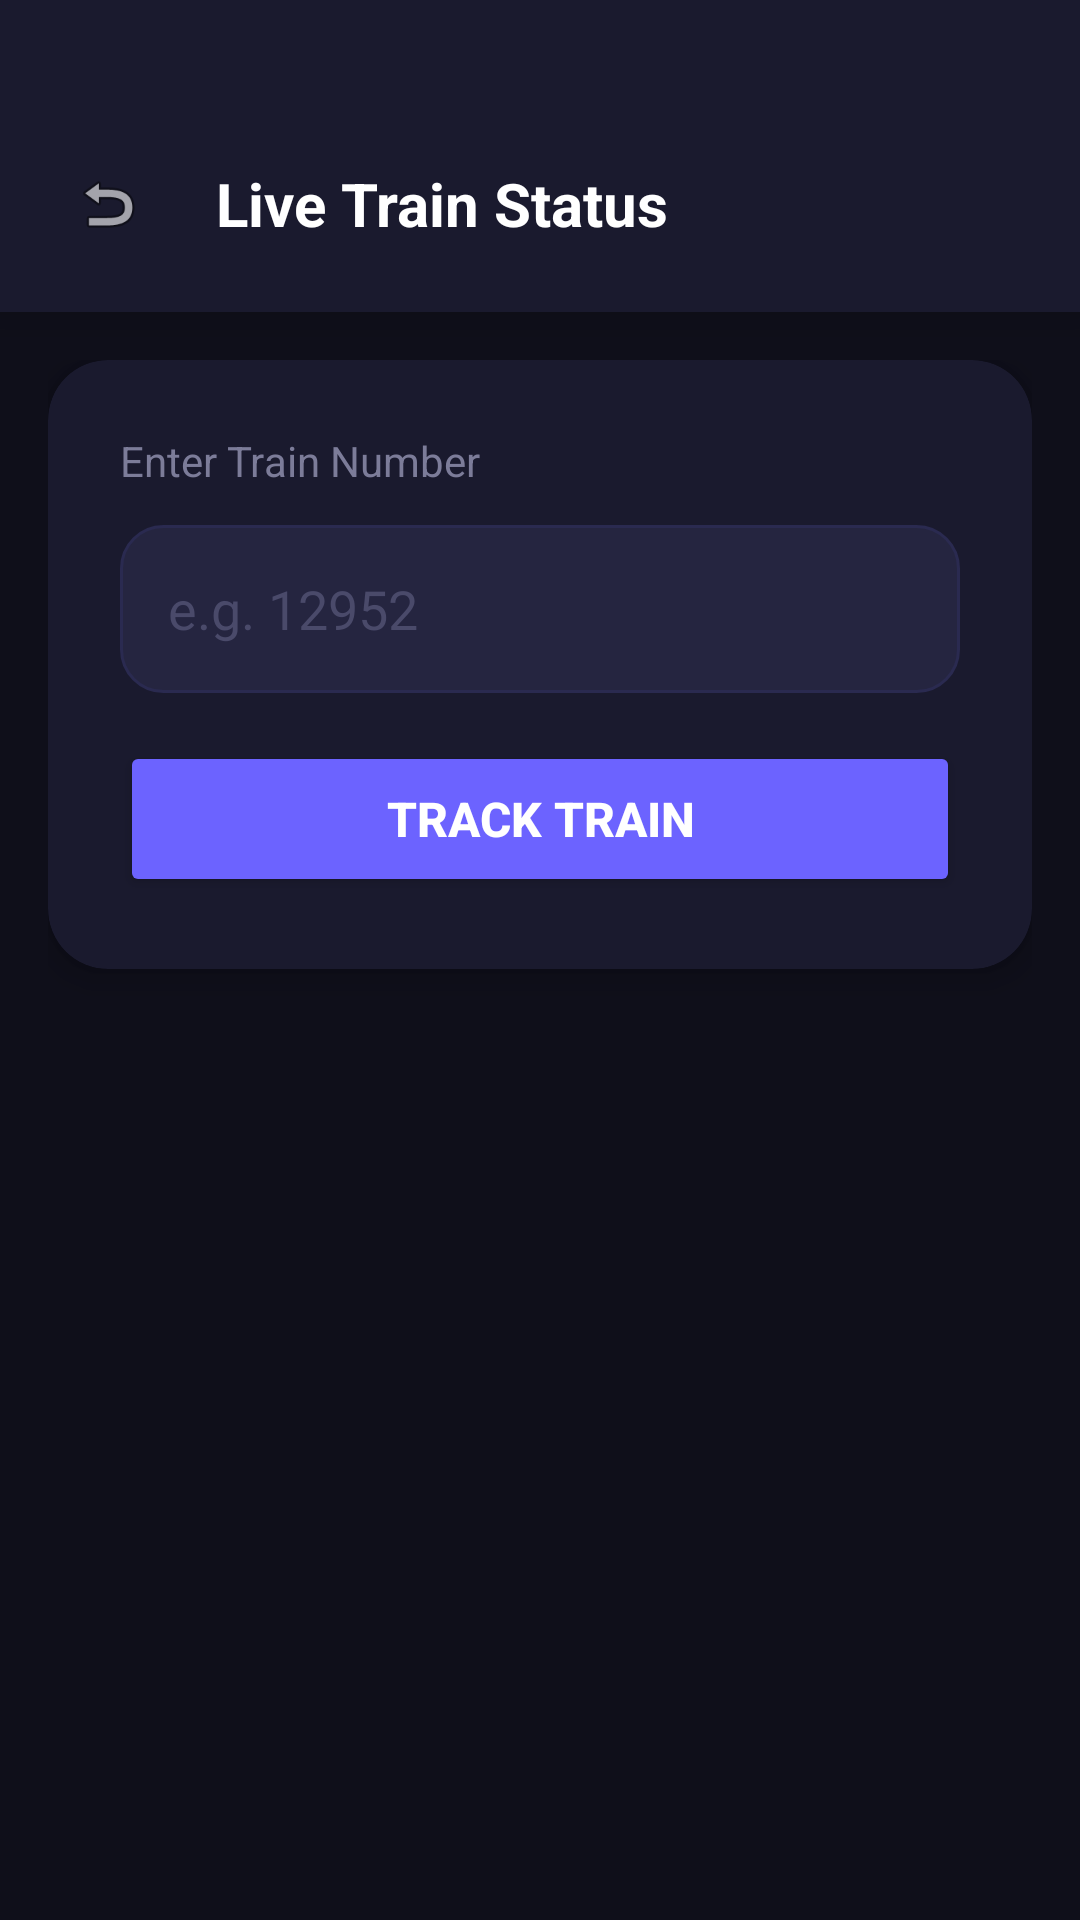

Screen size 1080px x 1920px. Icon name, then its box in pixels as (x1=x1, y1=y1, x2=x2, y2=y2):
revert: (x1=85, y1=183, x2=133, y2=226)
